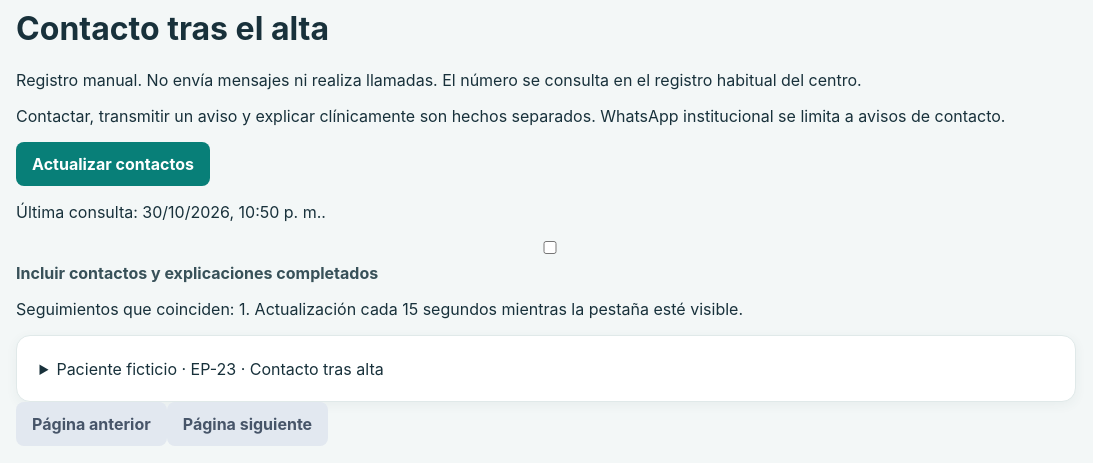
Test case: retira datos cuando se deniega la consulta
This screenshot has width=1093, height=463.
Click the button "Actualizar contactos".
click(113, 164)  # box [16,142,210,186]
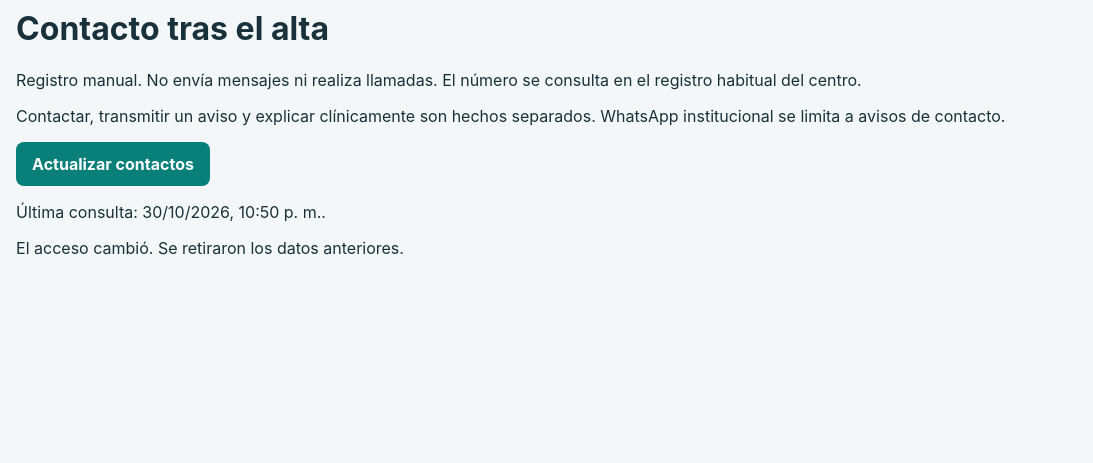
expect the text "El acceso cambió. Se retiraron los datos anteriores." is shown: met, box [16,238,404,258]
